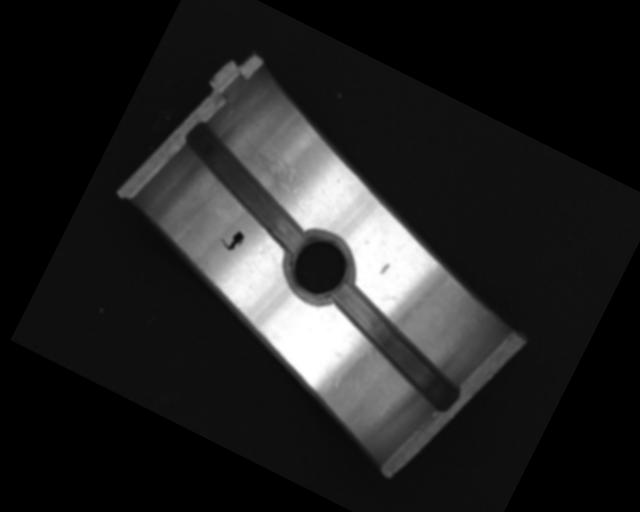blot: (217, 223, 247, 255)
bruise: (378, 261, 391, 277)
gap: (159, 119, 330, 256), (309, 279, 481, 414)
hole: (274, 226, 362, 312)
scratch: (225, 136, 315, 210)
